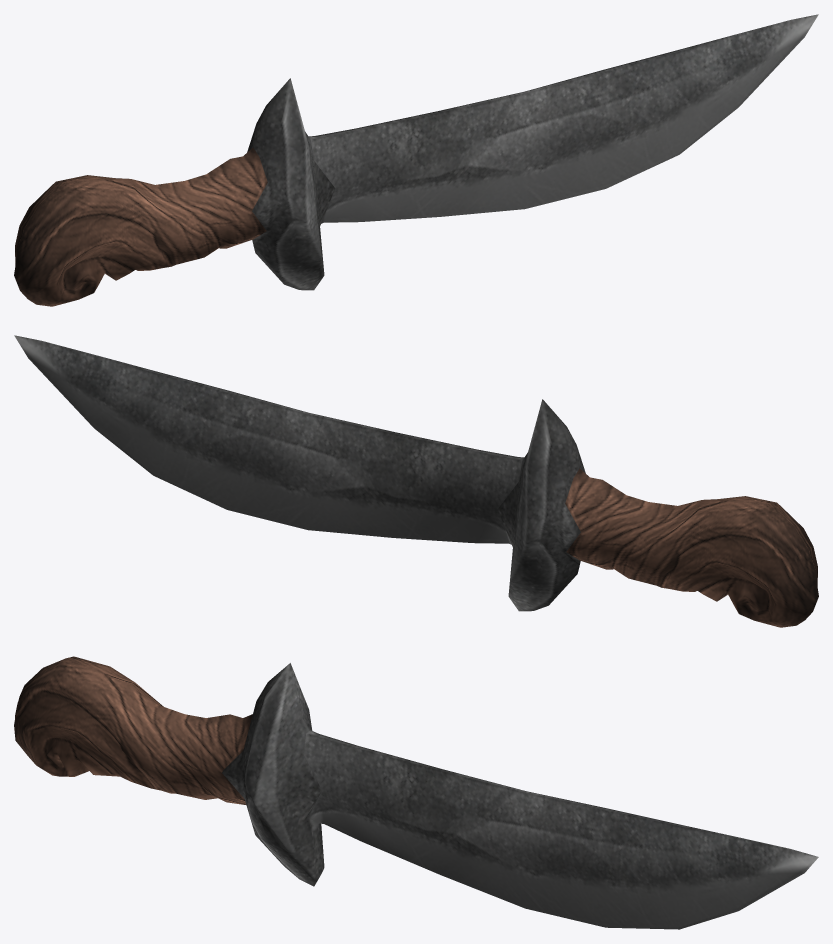
Rendered from knife.glb.
3 renders of one model, top to bottom at view 1: azimuth 30°, elevation 25°; view 2: azimuth 150°, elevation 25°; view 3: azimuth 330°, elevation 25°, orthographic.
Visible parts, largest first — view 1: node_id30; view 2: node_id30; view 3: node_id30.
Boxes of the visible parts, box(x1,y1,x2,y2) form: node_id30: box(14, 14, 818, 306); node_id30: box(14, 335, 818, 627); node_id30: box(14, 656, 818, 929).
Size of the model in its own units: 0.5117 by 0.1326 by 0.0583.
1 material, 1 textured.
